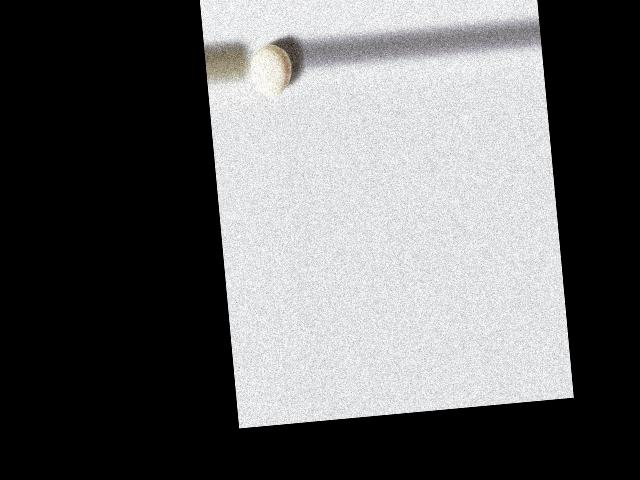egg: (248, 42, 294, 97)
